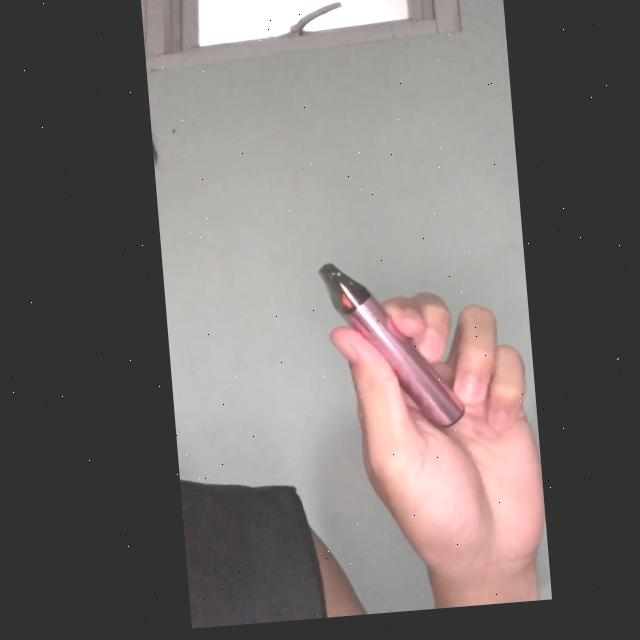vape: (310, 255, 460, 442)
